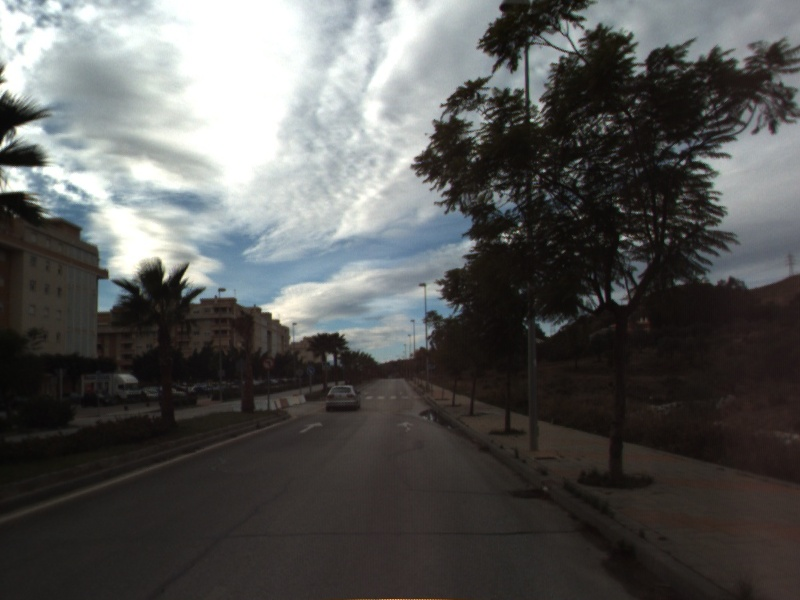STRAIGHT: (294, 419, 327, 436)
